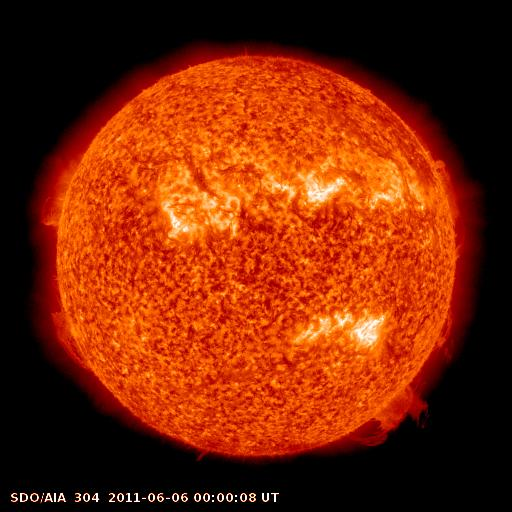prominence: (349, 377, 436, 453), (41, 300, 104, 379), (429, 155, 473, 260), (425, 304, 467, 363)
